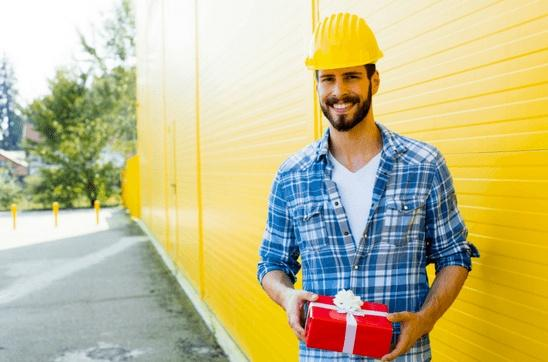helmet: (307, 11, 385, 72)
